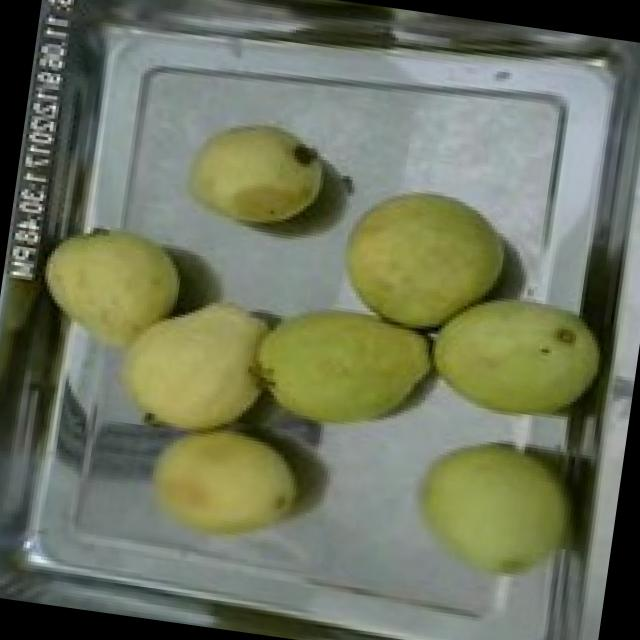Fruit: (397, 421, 599, 602), (238, 288, 447, 452), (410, 271, 614, 439), (95, 275, 288, 452), (326, 172, 522, 346), (14, 208, 200, 382), (126, 406, 318, 572), (172, 108, 337, 242)
